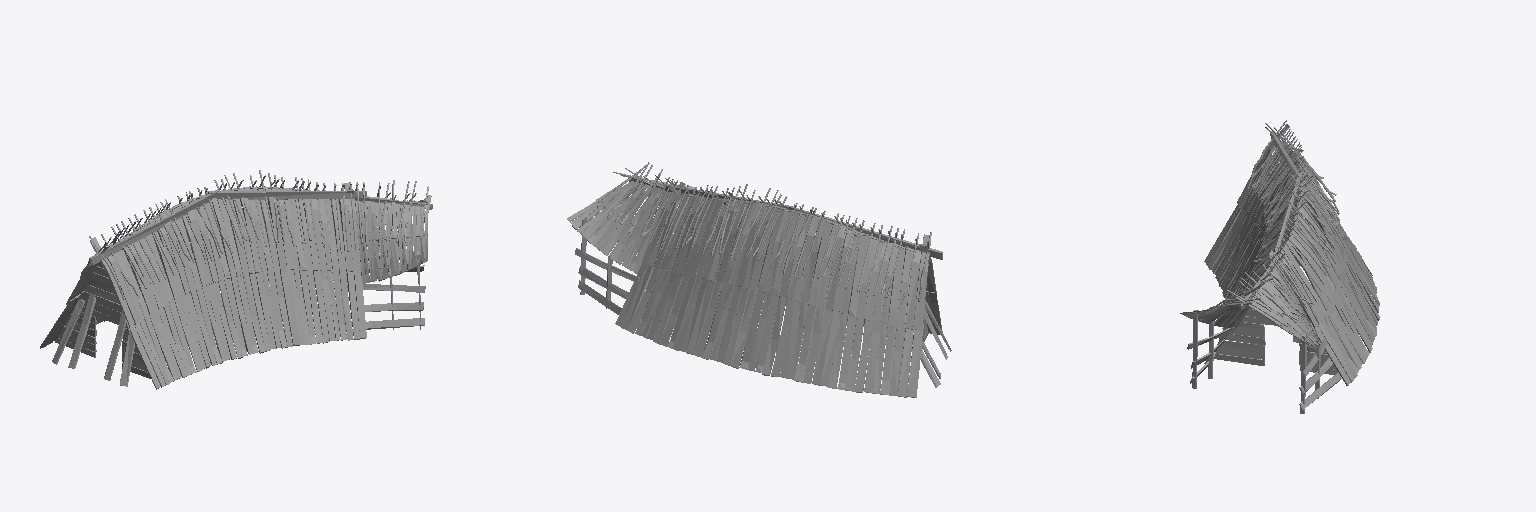
Rendered from LOD0_viking_eagle_hut.obj.
The picture shows the model from 3 angles: view 1: azimuth 30°, elevation 25°; view 2: azimuth 150°, elevation 25°; view 3: azimuth 270°, elevation 25°; orthographic projection.
Parts seen in each view (by area): view 1: Cube.002; view 2: Cube.002; view 3: Cube.002.
Boxes of the visible parts, x1,y1,x2,y2 form: Cube.002: [40, 170, 432, 389]; Cube.002: [567, 162, 951, 397]; Cube.002: [1180, 120, 1379, 413].
Bounding box in the file's own units: 28.79 × 10.89 × 13.38.